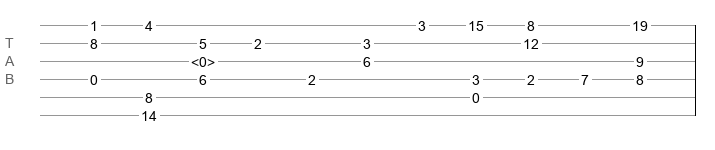0: (90, 72, 98, 82), (472, 90, 480, 100)
1: (90, 18, 98, 28)
12: (523, 36, 539, 46)
14: (141, 108, 157, 118)
15: (468, 18, 484, 28)
19: (632, 18, 648, 28)
2: (254, 36, 262, 46), (308, 72, 316, 82), (527, 72, 535, 82)
3: (363, 36, 371, 46), (418, 18, 426, 28), (472, 72, 480, 82)
4: (145, 18, 153, 28)
5: (199, 36, 207, 46)
6: (199, 72, 207, 82), (363, 54, 371, 64)
7: (581, 72, 589, 82)
8: (90, 36, 98, 46), (145, 90, 153, 100), (527, 18, 535, 28), (636, 72, 644, 82)
9: (636, 54, 644, 64)
harmonic: (191, 54, 215, 64)
